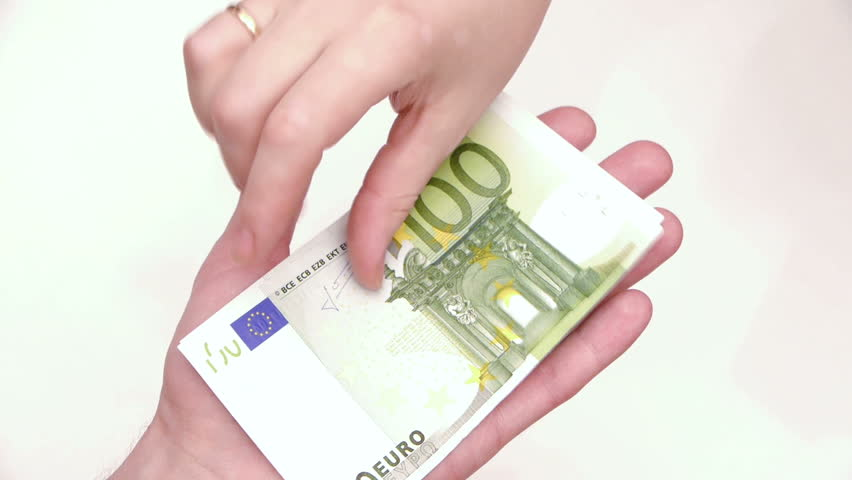billete: (175, 88, 670, 480)
